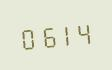four: (75, 18, 93, 46)
one: (56, 19, 74, 48)
six: (37, 21, 55, 49)
zero: (18, 23, 36, 51)
